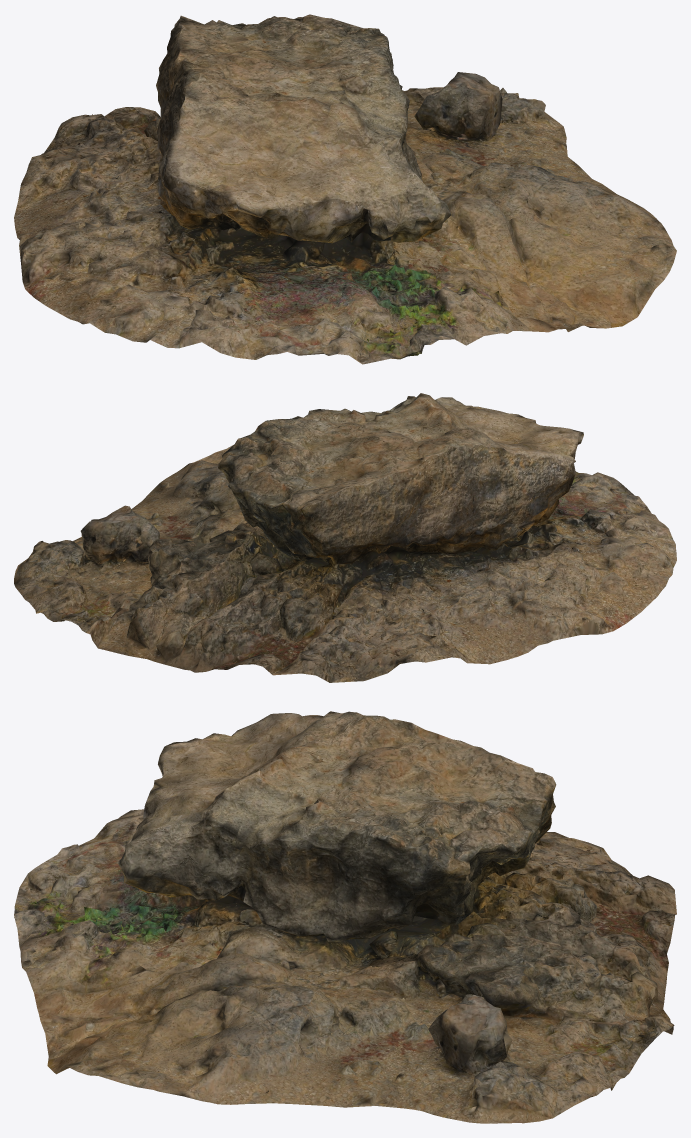
The model's file is SM_Rock_D.fbx.
3 renders of one model, top to bottom at view 1: azimuth 30°, elevation 25°; view 2: azimuth 150°, elevation 25°; view 3: azimuth 270°, elevation 25°, orthographic. The views are drawn at different scales.
Parts seen in each view (by area): view 1: SM_Rock_D; view 2: SM_Rock_D; view 3: SM_Rock_D.
Part boxes in pixels (bbox=[...]): SM_Rock_D: bbox=[14, 14, 676, 364]; SM_Rock_D: bbox=[14, 393, 676, 682]; SM_Rock_D: bbox=[14, 711, 676, 1123].
Size of what is drawn, in the model's own units: 5 by 1.65 by 4.64.
